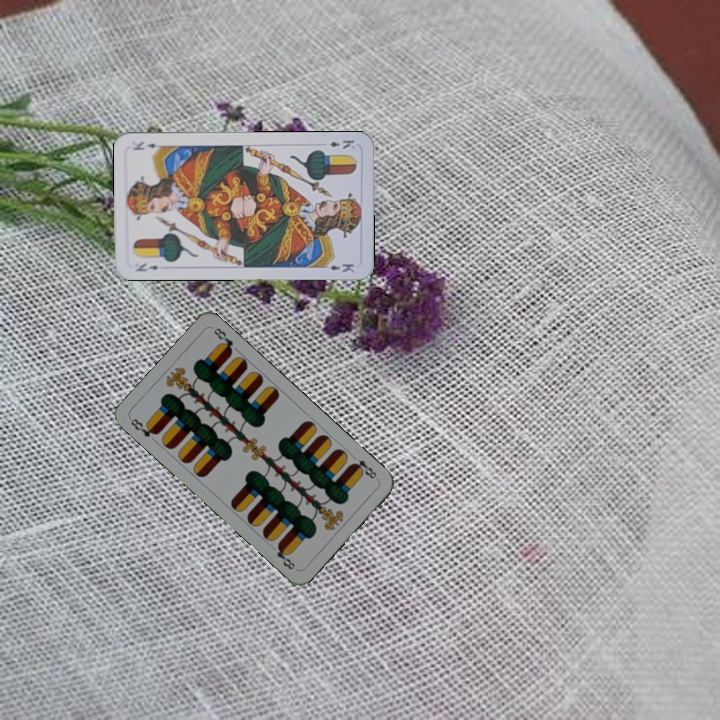E8: (347, 451, 381, 483), (126, 414, 161, 440)
EK: (325, 136, 357, 151), (132, 259, 161, 274)
